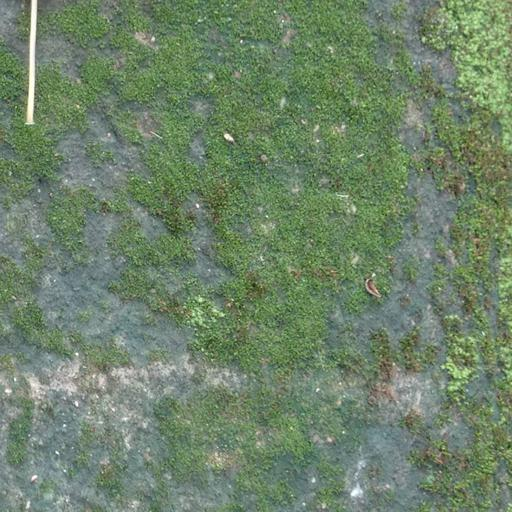algae: (21, 0, 512, 512)
